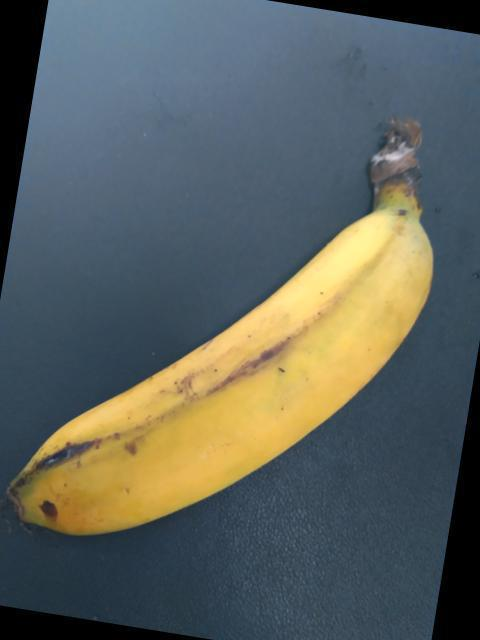freshripe: (0, 209, 413, 586)
